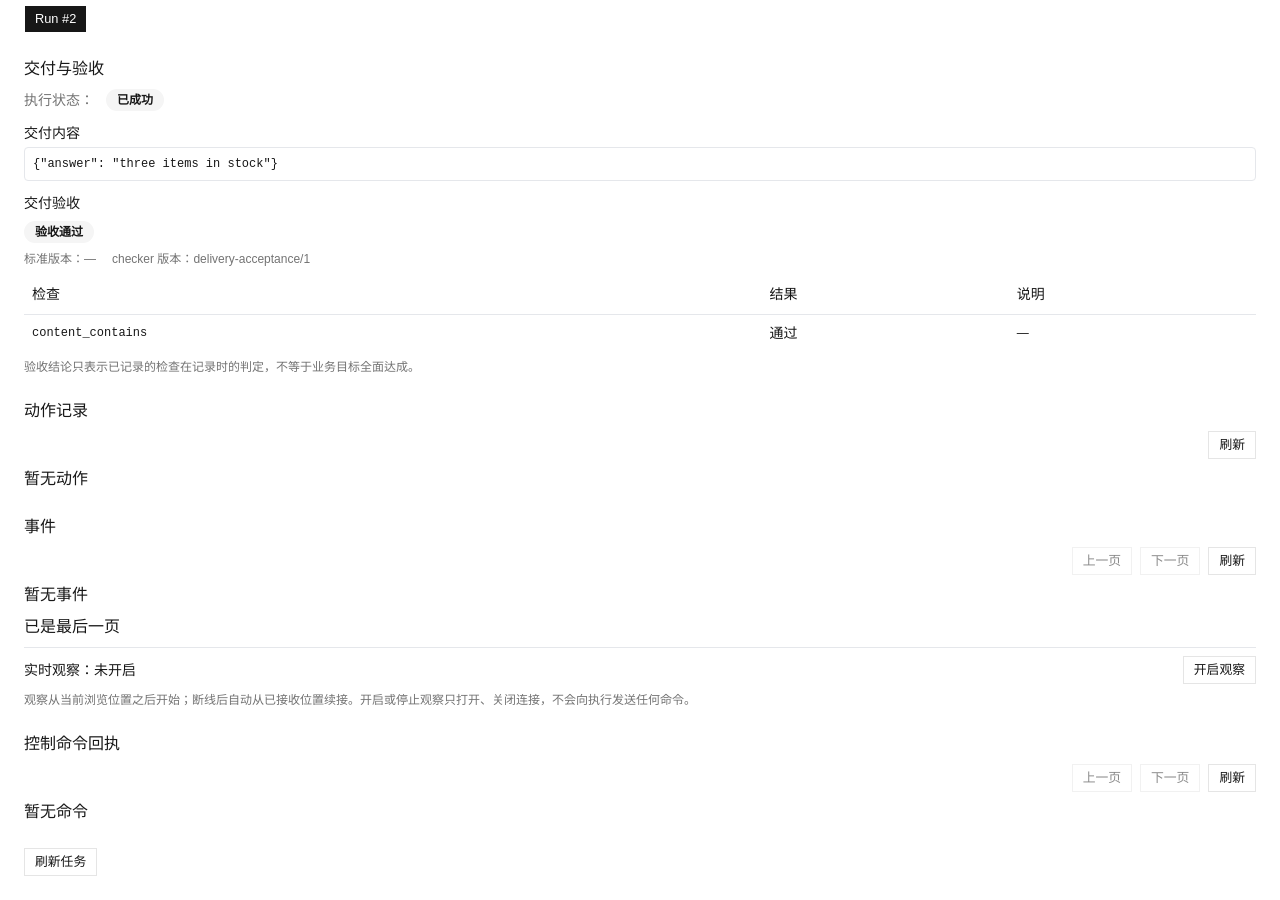
Test: TaskDetailPage continuation section › replaces the old trail on a successful refresh
(page scrolled)
Click the button "刷新任务" at (61, 862), box [24,848,97,876]
(page scrolled)
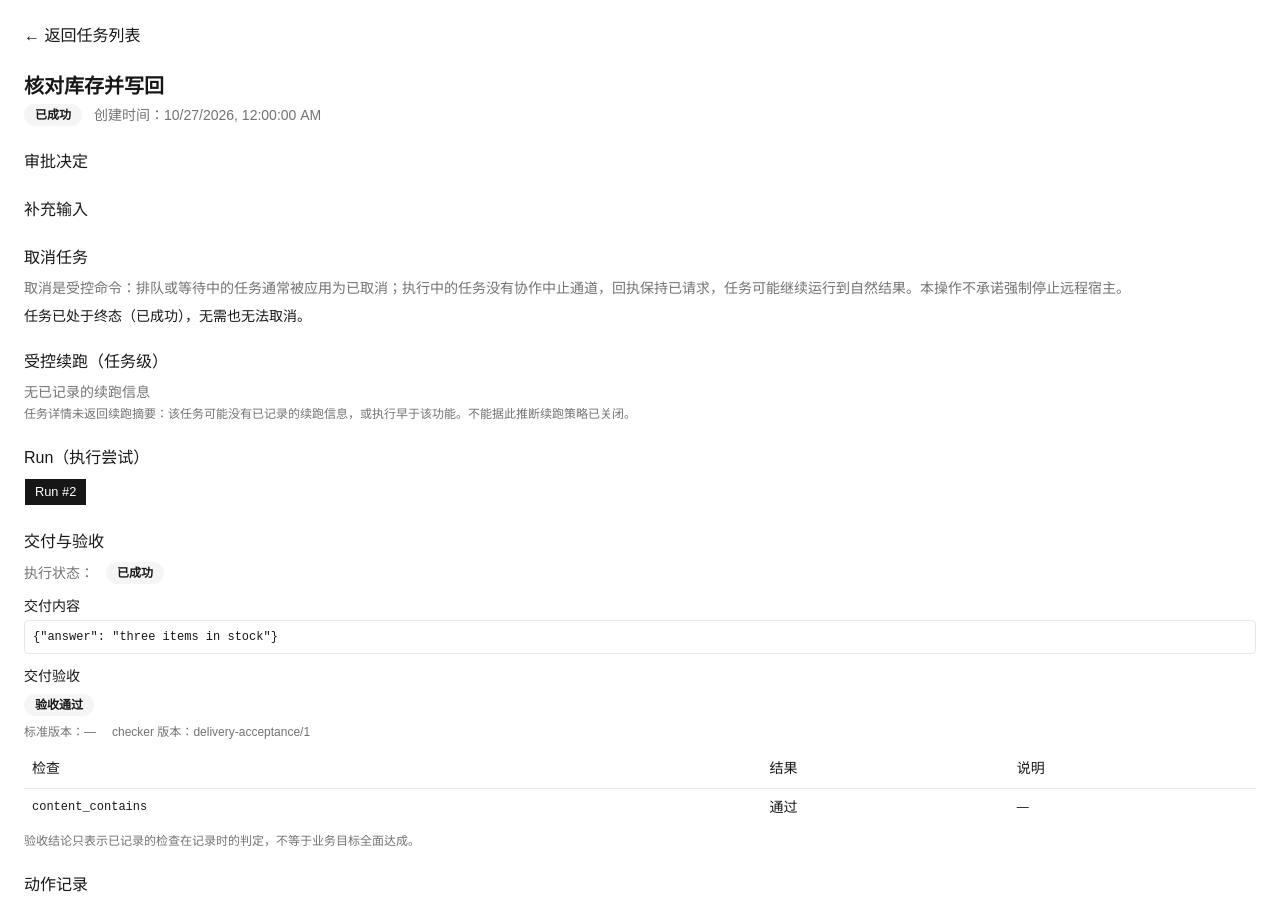
Result: the text "无已记录的续跑信息" is shown at [24,384,150,400]
